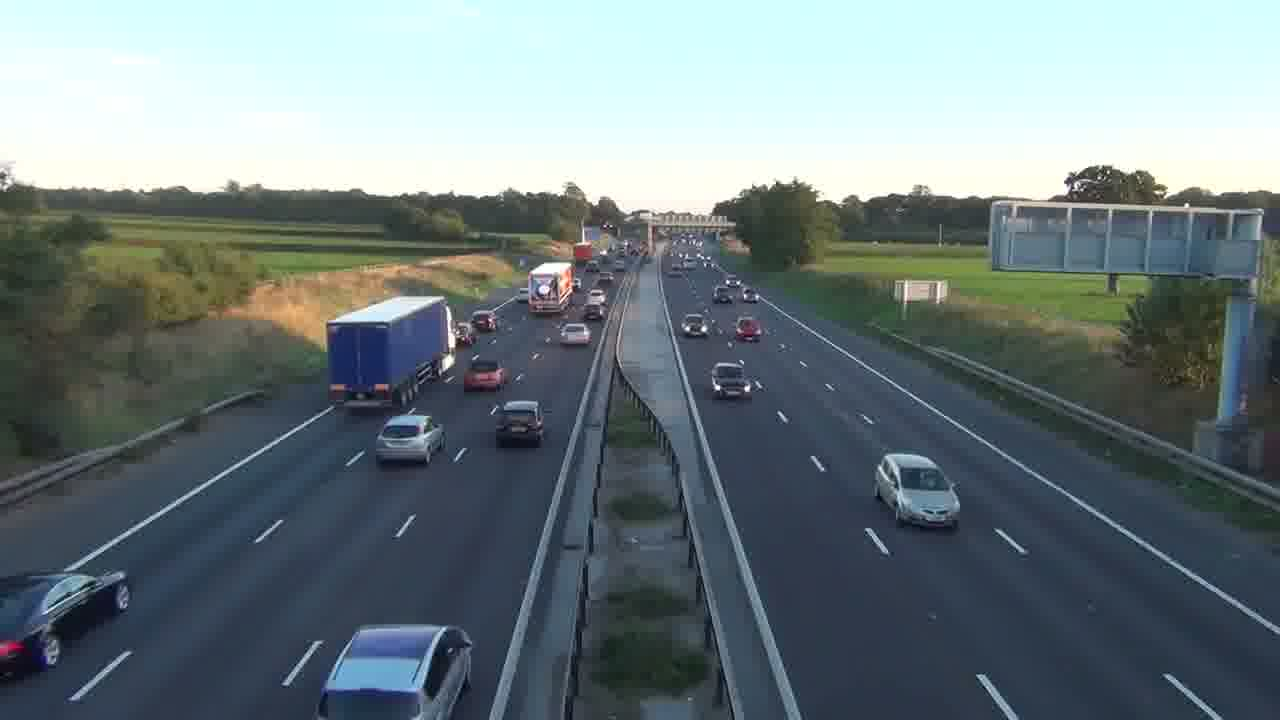car: (315, 623, 475, 718), (0, 569, 131, 679), (874, 452, 961, 529), (375, 412, 447, 464), (492, 400, 545, 447), (710, 360, 752, 399), (558, 321, 591, 346), (681, 312, 708, 337)
truck: (325, 294, 453, 405)
